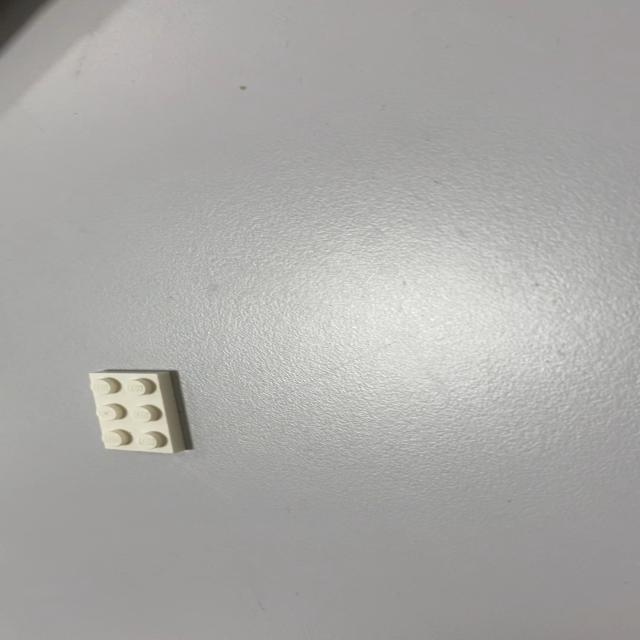C3x2x0: (87, 369, 186, 454)
